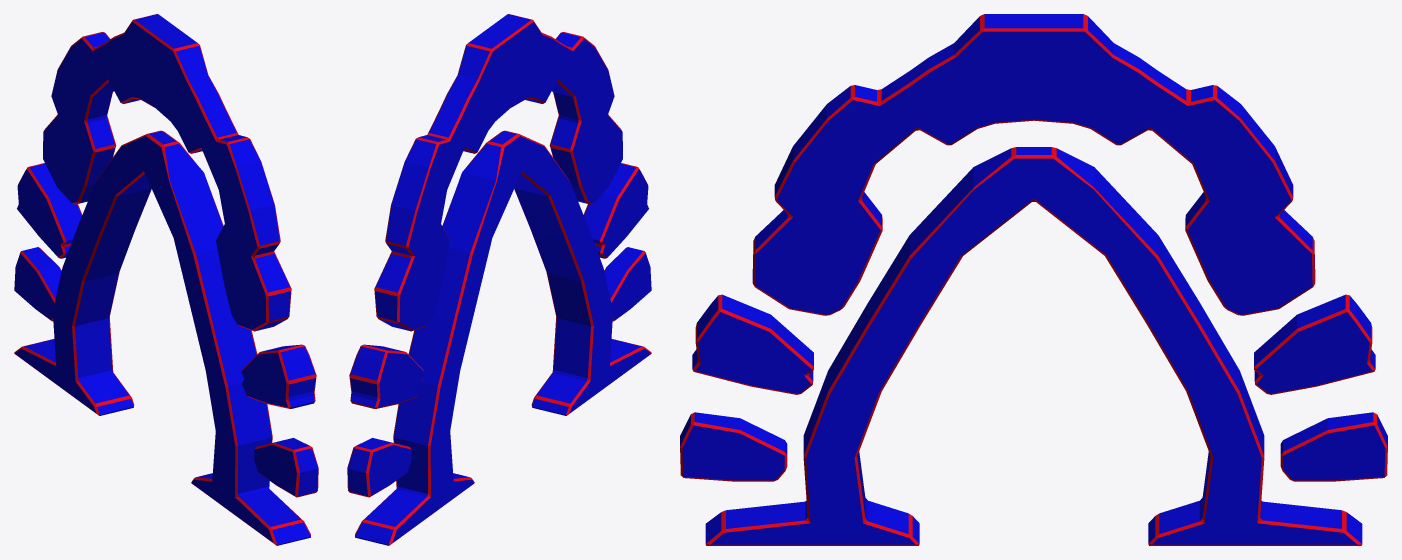
File: portail.fbx
3 renders of one model, left to right at view 1: azimuth 30°, elevation 25°; view 2: azimuth 150°, elevation 25°; view 3: azimuth 270°, elevation 25°, orthographic. The views are drawn at different scales.
Visible parts, largest first — view 1: portail; view 2: portail; view 3: portail.
Part boxes in pixels (<box>): portail: <box>14,14,318,545</box>; portail: <box>347,14,651,545</box>; portail: <box>680,14,1387,545</box>.
Bounding box in the file's own units: 52.23 × 539 × 670.
